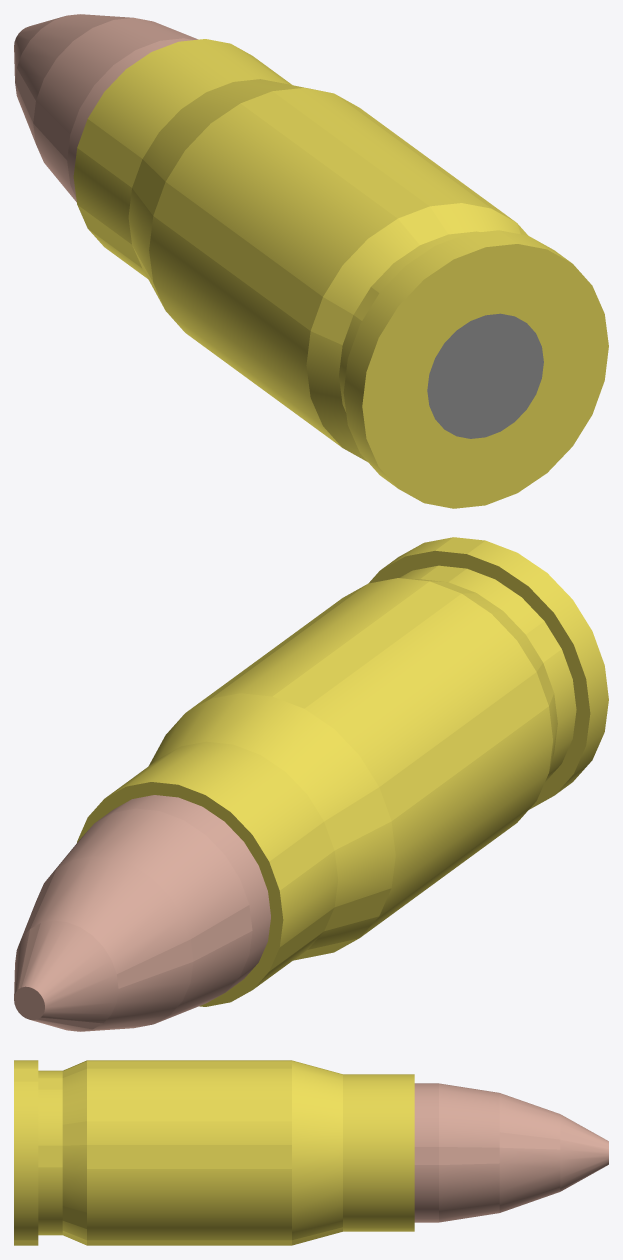
File: ammo_machinegun.fbx
The picture shows the model from 3 angles, top to bottom: view 1: azimuth 30°, elevation 25°; view 2: azimuth 150°, elevation 25°; view 3: azimuth 270°, elevation 25°; orthographic projection. The views are drawn at different scales.
Visible parts, largest first — view 1: imagetostl_mesh271, imagetostl_mesh90, imagetostl_mesh59, imagetostl_mesh191, imagetostl_mesh155, imagetostl_mesh60, imagetostl_mesh117, imagetostl_mesh61, imagetostl_mesh304, imagetostl_mesh112, imagetostl_mesh18, imagetostl_mesh283 (+57 smaller); view 2: imagetostl_mesh90, imagetostl_mesh59, imagetostl_mesh155, imagetostl_mesh60, imagetostl_mesh117, imagetostl_mesh61, imagetostl_mesh112, imagetostl_mesh18, imagetostl_mesh121, imagetostl_mesh2, imagetostl_mesh152, imagetostl_mesh149 (+65 smaller); view 3: imagetostl_mesh69, imagetostl_mesh180, imagetostl_mesh181, imagetostl_mesh70, imagetostl_mesh179, imagetostl_mesh2, imagetostl_mesh178, imagetostl_mesh18, imagetostl_mesh258, imagetostl_mesh61, imagetostl_mesh252, imagetostl_mesh340 (+83 smaller).
Boxes of the visible parts, x1,y1,x2,y2 form: imagetostl_mesh271: [427, 313, 543, 438]; imagetostl_mesh90: [165, 150, 342, 296]; imagetostl_mesh59: [185, 123, 367, 265]; imagetostl_mesh191: [379, 249, 591, 337]; imagetostl_mesh155: [153, 182, 322, 330]; imagetostl_mesh60: [211, 103, 397, 238]; imagetostl_mesh117: [149, 216, 310, 364]; imagetostl_mesh61: [241, 91, 429, 218]; imagetostl_mesh304: [379, 415, 591, 488]; imagetostl_mesh112: [149, 250, 310, 397]; imagetostl_mesh18: [273, 88, 461, 206]; imagetostl_mesh283: [362, 315, 484, 405]; imagetostl_mesh90: [360, 641, 536, 786]; imagetostl_mesh59: [334, 614, 516, 755]; imagetostl_mesh155: [379, 672, 548, 820]; imagetostl_mesh60: [304, 593, 490, 728]; imagetostl_mesh117: [391, 706, 552, 855]; imagetostl_mesh61: [273, 581, 461, 708]; imagetostl_mesh112: [391, 741, 552, 887]; imagetostl_mesh18: [241, 578, 429, 696]; imagetostl_mesh121: [379, 773, 548, 915]; imagetostl_mesh2: [211, 578, 397, 698]; imagetostl_mesh152: [308, 756, 378, 821]; imagetostl_mesh149: [286, 729, 359, 794]; imagetostl_mesh69: [87, 1121, 291, 1144]; imagetostl_mesh180: [87, 1169, 291, 1192]; imagetostl_mesh181: [87, 1145, 291, 1168]; imagetostl_mesh70: [87, 1099, 291, 1121]; imagetostl_mesh179: [87, 1192, 291, 1212]; imagetostl_mesh2: [87, 1081, 291, 1099]; imagetostl_mesh178: [87, 1212, 291, 1228]; imagetostl_mesh18: [87, 1068, 291, 1081]; imagetostl_mesh258: [87, 1229, 291, 1240]; imagetostl_mesh61: [87, 1061, 291, 1068]; imagetostl_mesh252: [343, 1146, 414, 1166]; imagetostl_mesh340: [343, 1166, 414, 1186].
Size of the model in its own units: 0.4593 by 0.4593 by 1.47.
